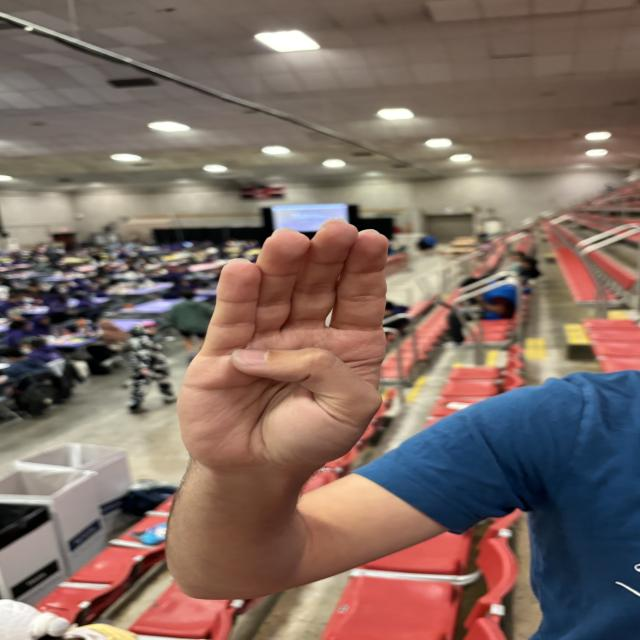B: (166, 217, 409, 467)
